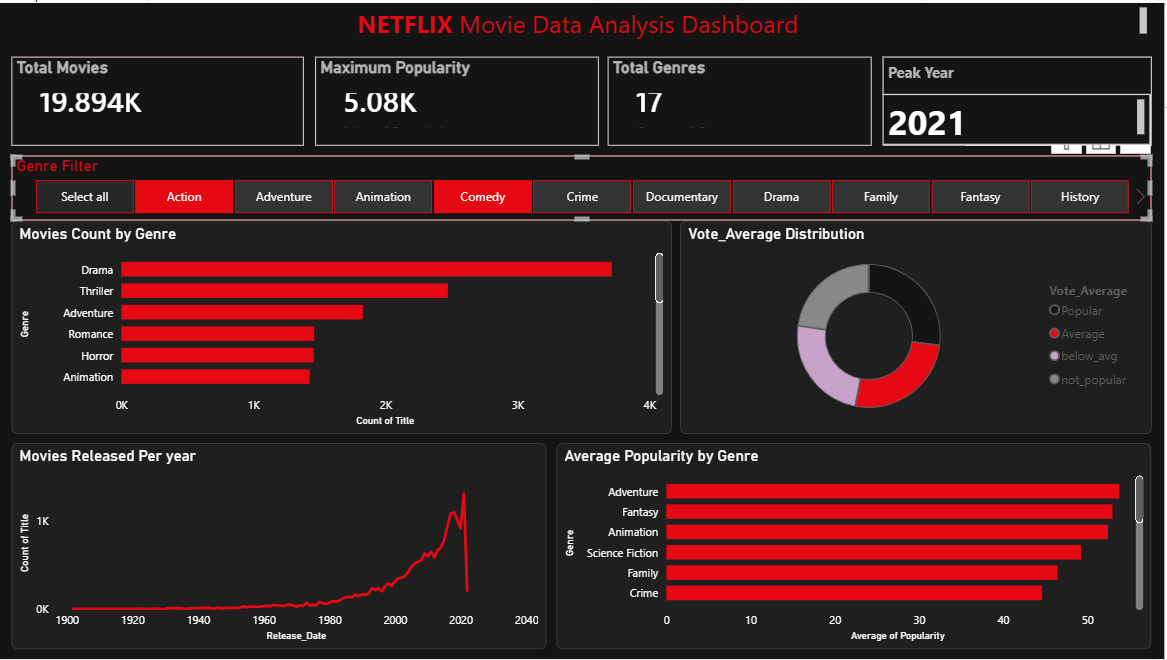

The dashboard page shown, as its layout file describes it:
{"tool":"powerbi","page":{"name":"Page 1","canvas":[1280,720],"ordinal":0},"visuals":[{"type":"shape","box":[13.7,59,321.1,97.4],"z":0},{"type":"clusteredBarChart","title":"Movies Count by Genre","fields":{"Category":["netflix_cleaned.Genre"],"Y":["CountNonNull(netflix_cleaned.Title)"]},"box":[13.7,238.8,724.5,234.6],"z":1000},{"type":"donutChart","title":" Vote_Average Distribution","fields":{"Category":["netflix_cleaned.Vote_Average"],"Y":["CountNonNull(netflix_cleaned.Title)"]},"box":[747.9,238.8,517.3,234.6],"z":2000},{"type":"lineChart","title":"Movies Released Per year","fields":{"Category":["netflix_cleaned.Release_Date"],"Y":["CountNonNull(netflix_cleaned.Title)"]},"box":[13.7,483,587.3,226.4],"z":3000},{"type":"clusteredBarChart","title":"Average Popularity by Genre","fields":{"Y":["Avg(netflix_cleaned.Popularity)"],"Category":["netflix_cleaned.Genre"]},"box":[612,483,653.2,226.4],"z":4000},{"type":"cardVisual","title":"Total Movies","fields":{"Data":["CountNonNull(netflix_cleaned.Title)"]},"box":[13.7,59,321.1,97.4],"z":5000},{"type":"cardVisual","title":"Maximum Popularity","fields":{"Data":["Max(netflix_cleaned.Popularity)"]},"box":[347.2,59,311.5,97.4],"z":6000},{"type":"cardVisual","title":"Total Genres","fields":{"Data":["Count(netflix_cleaned.Genre)"]},"box":[668.3,59,289.5,97.4],"z":7000},{"type":"cardVisual","box":[970.2,59,295,97.4],"z":8000},{"type":"slicer","title":"Genre Filter","fields":{"Values":["netflix_cleaned.Genre"]},"box":[13.7,167.4,1251.5,71.4],"z":9000},{"type":"textbox","box":[13.7,0,1251.5,49.4],"z":10000},{"type":"textbox","box":[983.5,91.2,269.4,52.7],"z":11000},{"type":"textbox","box":[970.7,58.4,295.1,41.3],"z":12000},{"type":"textbox","box":[970.7,99.8,293.6,55.6],"z":13000}]}

Visuals, with their boxes in screenshot pixels (x1, y1, x2, y2), scaled from the page's 1280x720 canvas onto the 1167x660 screenshot:
shape: (12,54,305,143)
"Movies Count by Genre" clusteredBarChart: (12,219,673,434)
" Vote_Average Distribution" donutChart: (682,219,1154,434)
"Movies Released Per year" lineChart: (12,443,548,650)
"Average Popularity by Genre" clusteredBarChart: (558,443,1154,650)
"Total Movies" cardVisual: (12,54,305,143)
"Maximum Popularity" cardVisual: (317,54,601,143)
"Total Genres" cardVisual: (609,54,873,143)
cardVisual: (885,54,1154,143)
"Genre Filter" slicer: (12,153,1154,219)
textbox: (12,0,1154,45)
textbox: (897,84,1142,132)
textbox: (885,54,1154,91)
textbox: (885,91,1153,142)
